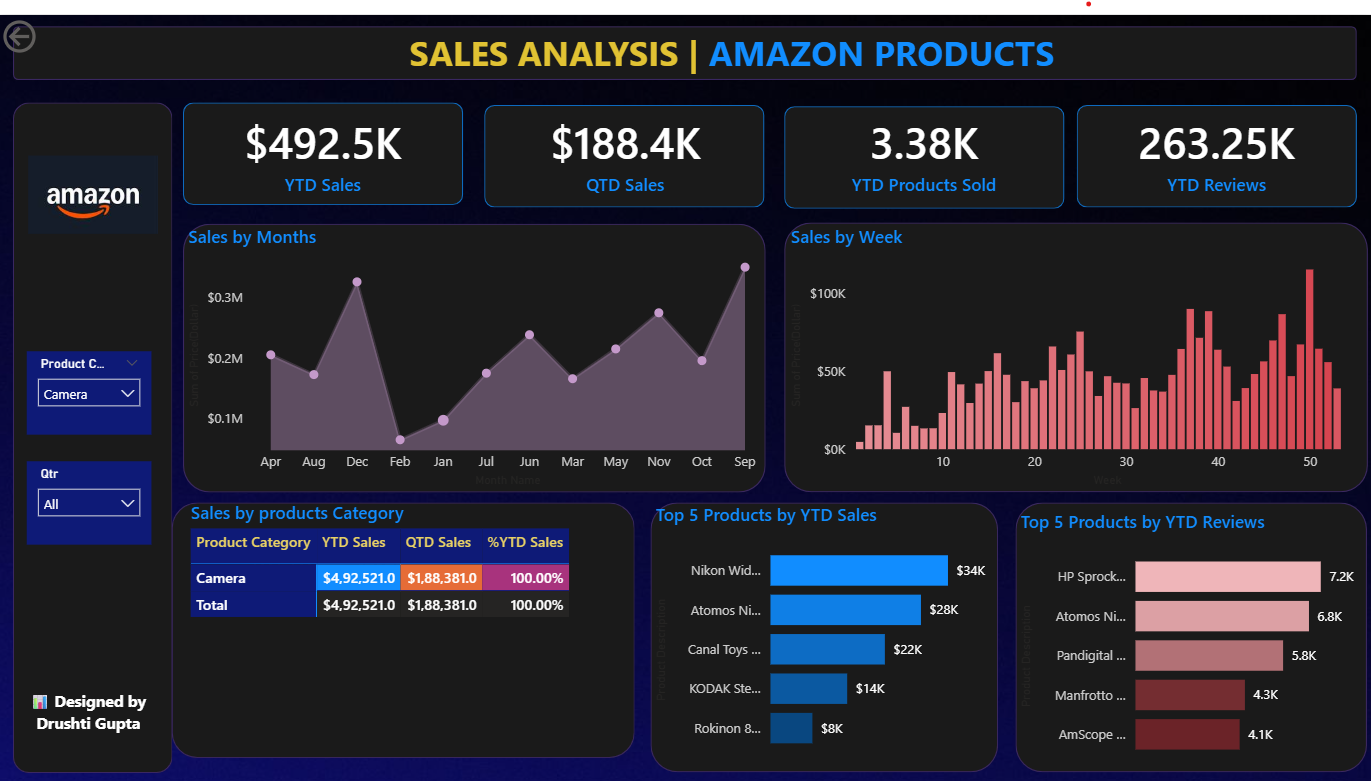

The page's visual inventory and layout, read from the dashboard file:
{"tool":"powerbi","page":{"name":"Page 1","canvas":[1280,720],"ordinal":0},"visuals":[{"type":"shape","box":[14.5,10.9,1250,50],"z":0},{"type":"textbox","box":[377.6,8.4,614.1,56.7],"z":1000},{"type":"shape","box":[14.5,80.8,148.4,623.7],"z":2000},{"type":"shape","box":[172.5,80.8,260.6,95.3],"z":3000},{"type":"card","fields":{"Values":["Amazon_Data.YTD Sales"]},"box":[172.5,80.8,260.6,95.3],"z":4000},{"type":"shape","box":[731.1,84.5,260.6,95.3],"z":5000},{"type":"shape","box":[452.4,83.2,260.6,95.3],"z":6000},{"type":"shape","box":[1003.8,83.2,260.6,95.3],"z":7000},{"type":"card","fields":{"Values":["Amazon_Data.QTD Sales"]},"box":[453.6,80.8,260.6,95.3],"z":8000},{"type":"card","fields":{"Values":["Amazon_Data.YTD Reviews"]},"box":[1003.8,80.8,260.6,95.3],"z":9000},{"type":"card","fields":{"Values":["Amazon_Data.YTD Products Sold"]},"box":[731.1,80.8,260.6,95.3],"z":10000},{"type":"actionButton","box":[0,0,100,40],"z":11000},{"type":"shape","box":[172.5,194.2,542,250],"z":12000},{"type":"areaChart","title":"Sales by Months","fields":{"Category":["Date Table.Month Name"],"Y":["Sum(Amazon_Data.Price(Dollar))"]},"box":[172.5,194.2,544.1,249.7],"z":13000},{"type":"shape","box":[731.1,193,542.9,250.9],"z":14000},{"type":"columnChart","title":"Sales by Week","fields":{"Category":["Date Table.Week"],"Y":["Sum(Amazon_Data.Price(Dollar))"]},"box":[732.3,194.2,542.9,249.7],"z":15000},{"type":"shape","box":[161.7,453.6,430.7,237.7],"z":16000},{"type":"pivotTable","title":"Sales by products Category","fields":{"Rows":["Amazon_Data.Product Category"],"Values":["Amazon_Data.YTD Sales1","Amazon_Data.QTD Sales","Amazon_Data.YTD Sales"]},"box":[174.9,451.2,430.7,246.1],"z":17000},{"type":"shape","box":[947.1,453.6,326.9,250.9],"z":18000},{"type":"shape","box":[606.8,453.6,323.3,250.9],"z":19000},{"type":"clusteredBarChart","title":"Top 5 Products by YTD Sales","fields":{"Category":["Amazon_Data.Product Description"],"Y":["Amazon_Data.YTD Sales"]},"box":[606.8,453.6,323.3,244.9],"z":20000},{"type":"clusteredBarChart","title":"Top 5 Products by YTD Reviews","fields":{"Category":["Amazon_Data.Product Description"],"Y":["Amazon_Data.YTD Reviews"]},"box":[947.1,459.7,323.3,244.9],"z":21000},{"type":"slicer","fields":{"Values":["Amazon_Data.Product Category"]},"box":[26.5,312.5,115.8,77.2],"z":22000},{"type":"slicer","fields":{"Values":["Date Table.Qtr"]},"box":[26.5,415,115.8,77.2],"z":23000},{"type":"image","box":[22.9,101.3,130.3,131.5],"z":24000},{"type":"textbox","box":[14.5,623.7,139.9,56.7],"z":25000}]}

Visuals, with their boxes in screenshot pixels (x1, y1, x2, y2), scaled from the page's 1280x720 canvas onto the 1371x781 screenshot:
shape: crop(16, 12, 1354, 66)
textbox: crop(404, 9, 1062, 71)
shape: crop(16, 88, 174, 764)
shape: crop(185, 88, 464, 191)
card - Amazon_Data.YTD Sales: crop(185, 88, 464, 191)
shape: crop(783, 92, 1062, 195)
shape: crop(485, 90, 764, 194)
shape: crop(1075, 90, 1354, 194)
card - Amazon_Data.QTD Sales: crop(486, 88, 765, 191)
card - Amazon_Data.YTD Reviews: crop(1075, 88, 1354, 191)
card - Amazon_Data.YTD Products Sold: crop(783, 88, 1062, 191)
actionButton: crop(0, 0, 107, 43)
shape: crop(185, 211, 765, 482)
"Sales by Months" areaChart: crop(185, 211, 768, 482)
shape: crop(783, 209, 1365, 482)
"Sales by Week" columnChart: crop(784, 211, 1366, 482)
shape: crop(173, 492, 635, 750)
"Sales by products Category" pivotTable: crop(187, 489, 649, 756)
shape: crop(1014, 492, 1365, 764)
shape: crop(650, 492, 996, 764)
"Top 5 Products by YTD Sales" clusteredBarChart: crop(650, 492, 996, 758)
"Top 5 Products by YTD Reviews" clusteredBarChart: crop(1014, 499, 1361, 764)
slicer - Amazon_Data.Product Category: crop(28, 339, 152, 423)
slicer - Date Table.Qtr: crop(28, 450, 152, 534)
image: crop(25, 110, 164, 253)
textbox: crop(16, 677, 165, 738)
